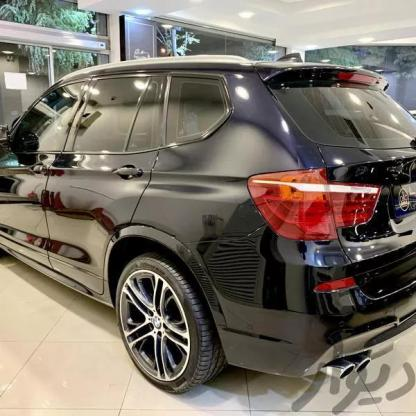Car: (0, 42, 416, 399)
